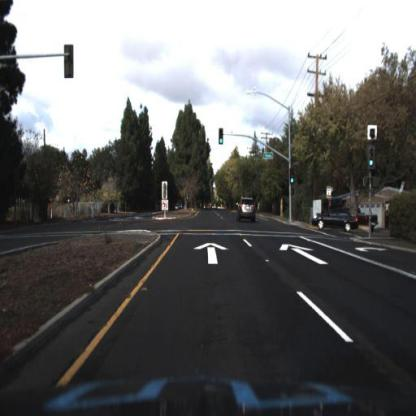car: (313, 206, 359, 233), (238, 194, 259, 222), (358, 206, 383, 229)
trafficLight-Green: (288, 167, 297, 188), (217, 125, 225, 146)
